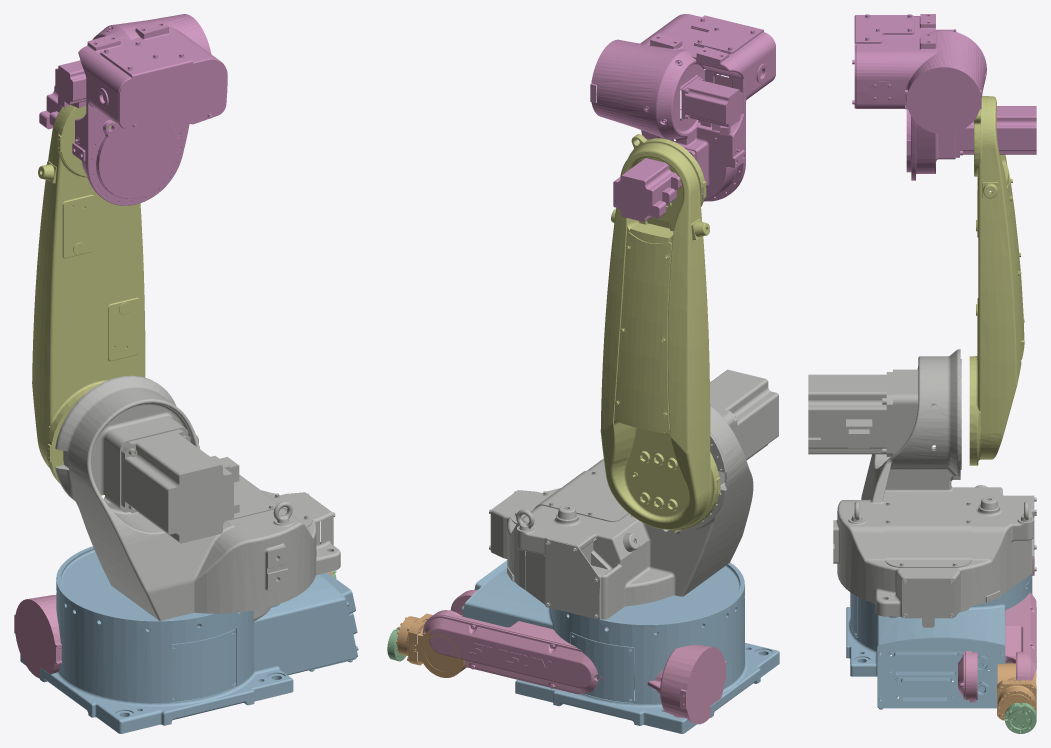
The model's file is 2149_ground_truth.glb.
3 views of the same model, side by side, from view 1: azimuth 30°, elevation 25°; view 2: azimuth 150°, elevation 25°; view 3: azimuth 270°, elevation 25° (orthographic). The views are drawn at different scales.
Parts seen in each view (by area): view 1: c00005, c00007, c00001, c00002, c00008; view 2: c00001, c00005, c00002, c00007, c00008, c00003; view 3: c00005, c00002, c00001, c00007, c00008, c00003, c00004.
Boxes of the visible parts, x1,y1,x2,y2 form: c00005: (55,375,340,626); c00007: (20,546,358,733); c00001: (32,104,145,495); c00002: (39,14,227,205); c00008: (14,595,61,678); c00001: (600,134,720,532); c00005: (489,369,778,619); c00002: (590,14,775,221); c00007: (462,556,779,733); c00008: (422,590,726,724); c00003: (396,613,466,677); c00005: (808,349,1036,627); c00002: (852,14,1036,180); c00001: (969,96,1024,465); c00007: (846,574,1036,709); c00008: (958,556,1036,702); c00003: (997,663,1036,720); c00004: (1005,703,1036,733).
Size of the model in its own units: 608 by 1241 by 432.
